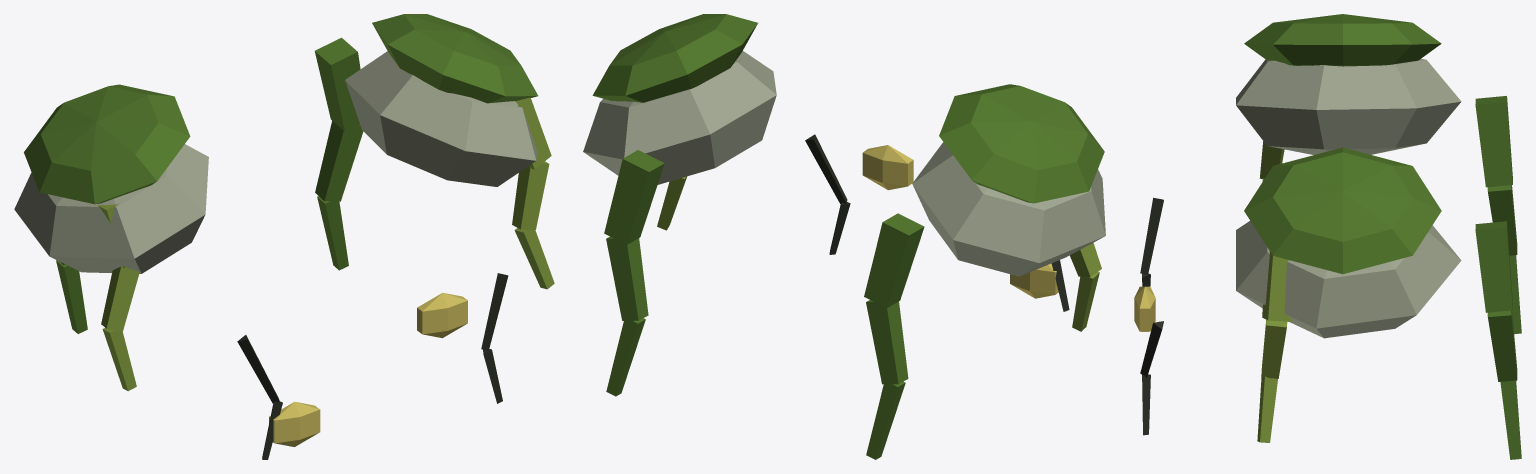
The model's file is terrace_golem_chest.glb.
3 views of the same model, side by side, from view 1: azimuth 30°, elevation 25°; view 2: azimuth 150°, elevation 25°; view 3: azimuth 270°, elevation 25° (orthographic).
Visible parts, largest first — view 1: terrace_golem_chest; view 2: terrace_golem_chest; view 3: terrace_golem_chest.
Boxes of the visible parts, x1,y1,x2,y2 form: terrace_golem_chest: (14, 14, 554, 459); terrace_golem_chest: (583, 14, 1105, 459); terrace_golem_chest: (1134, 14, 1521, 459).
Size of the model in its own units: 1.13 by 0.6714 by 0.7832.
